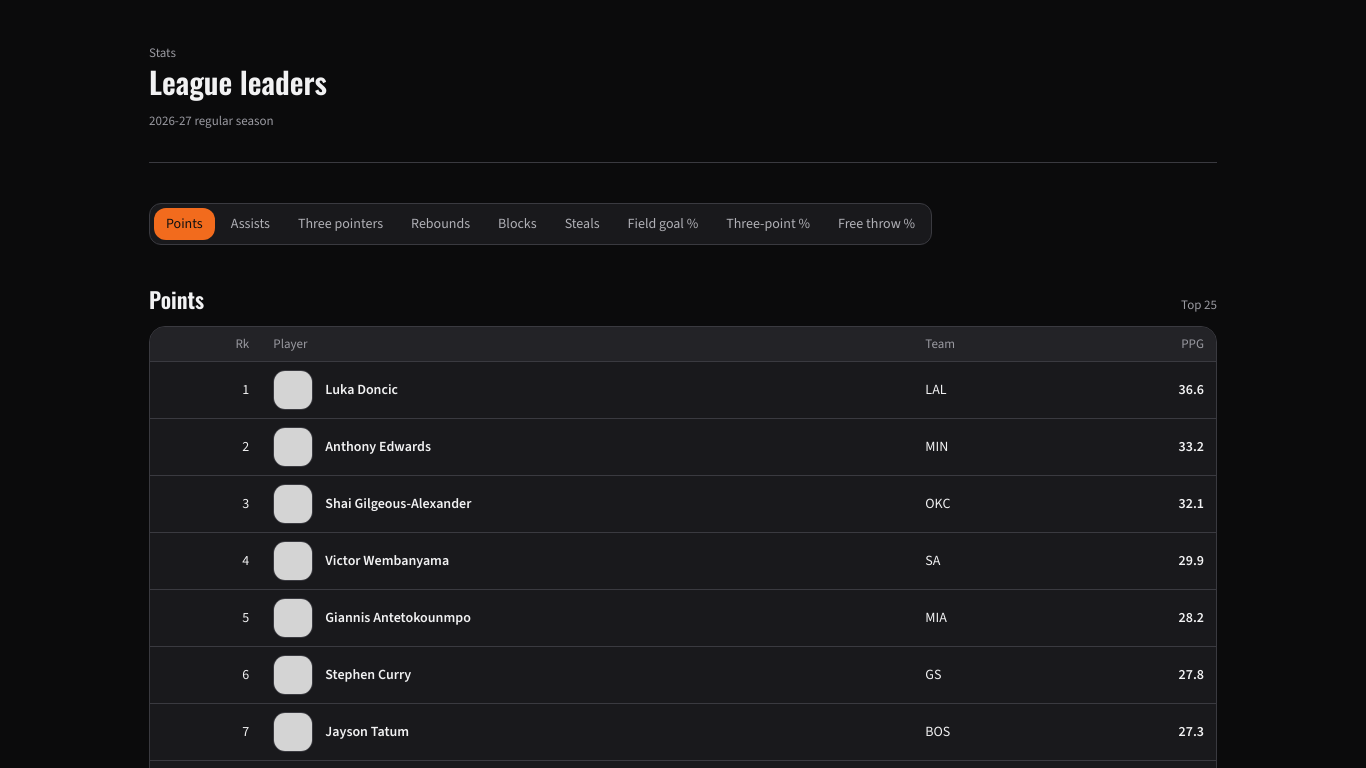
LeadersPage › switches category from the selector
Expected: the heading "Points" is shown, [149, 285, 204, 313]
Click the tab "Free throw %". click: (876, 224)
box: [826, 208, 927, 240]
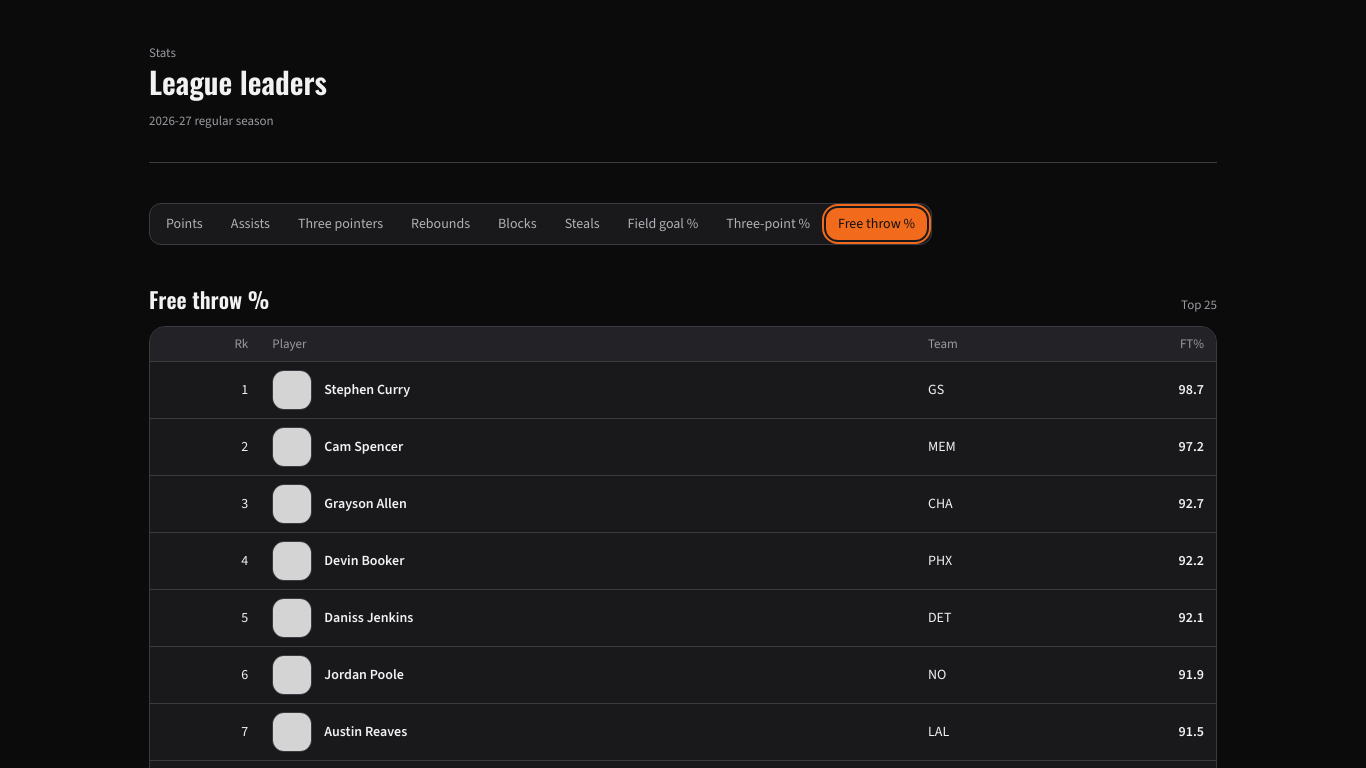
Now the heading "Free throw %" is shown, box [149, 285, 269, 313]
Now the text "Stephen Curry" is shown, box [324, 380, 410, 400]
